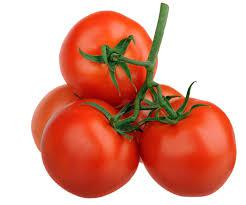tomato: (62, 8, 159, 108), (40, 101, 140, 196), (142, 99, 235, 198), (32, 87, 89, 146), (129, 84, 183, 139)
